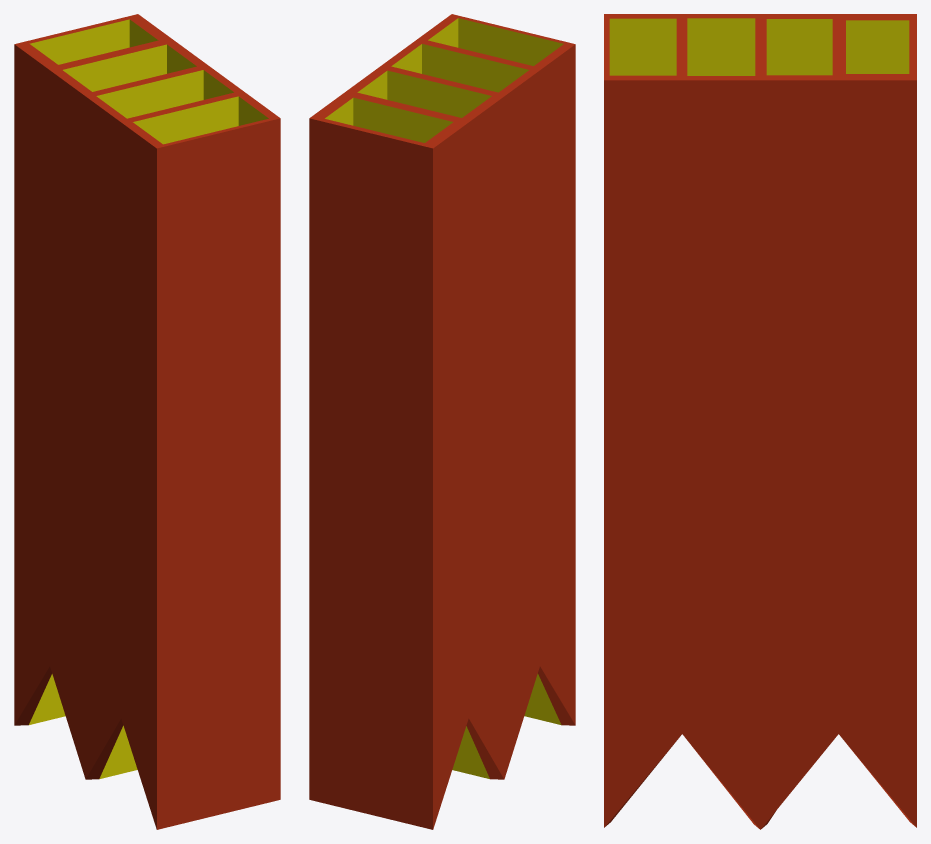
The model's file is dropshipFrontEngine.fbx.
3 renders of one model, left to right at view 1: azimuth 30°, elevation 25°; view 2: azimuth 150°, elevation 25°; view 3: azimuth 270°, elevation 25°, orthographic. The views are drawn at different scales.
Visible parts, largest first — view 1: aircraftEngine:pCube1; view 2: aircraftEngine:pCube1; view 3: aircraftEngine:pCube1.
Boxes of the visible parts, x1,y1,x2,y2 form: aircraftEngine:pCube1: (14,14,280,829); aircraftEngine:pCube1: (309,14,575,829); aircraftEngine:pCube1: (604,14,916,829).
Size of the model in its own units: 0.4649 by 2.45 by 0.927.
